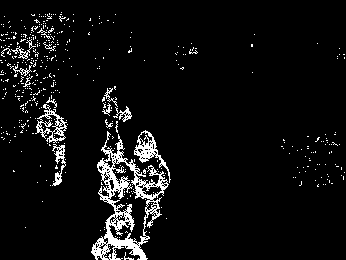person: (131, 131, 171, 242), (36, 99, 67, 186), (97, 133, 129, 212), (102, 87, 126, 154)
